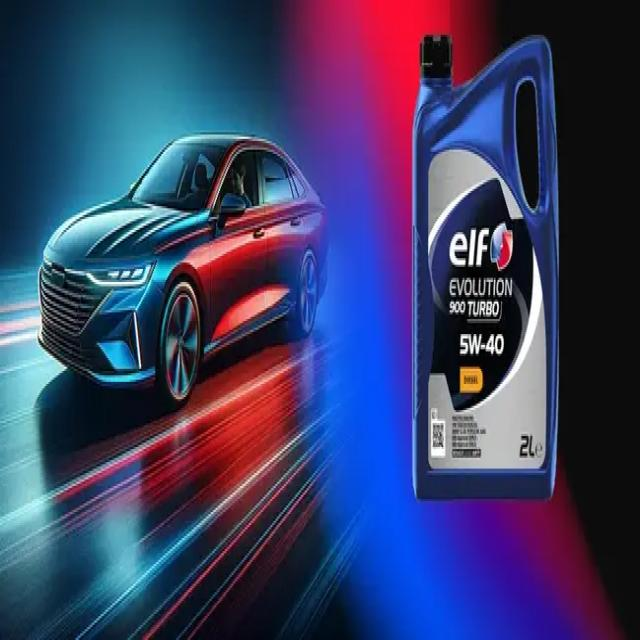motor_oil: (414, 28, 559, 508)
